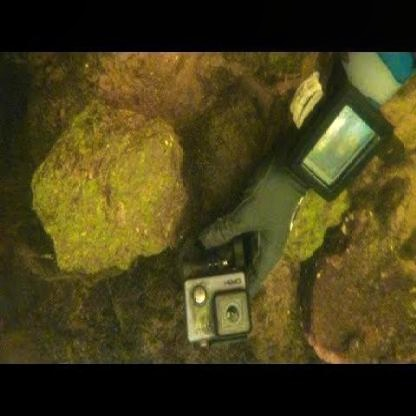electronics: (183, 260, 252, 347)
